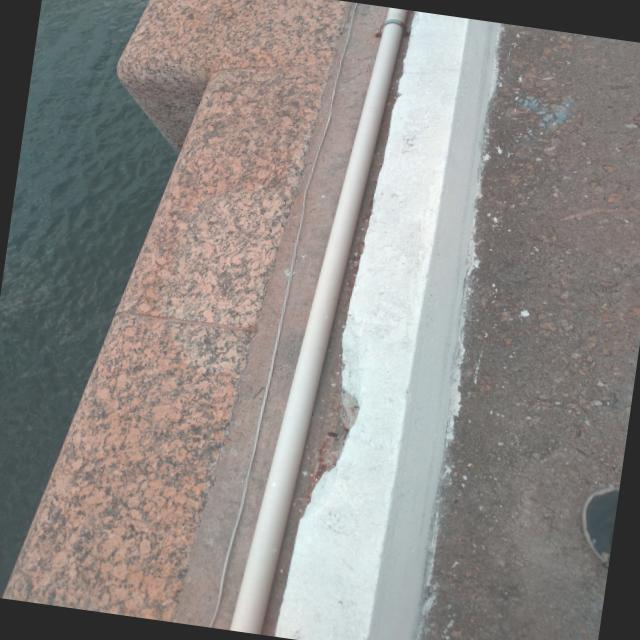gas: (228, 7, 408, 633)
